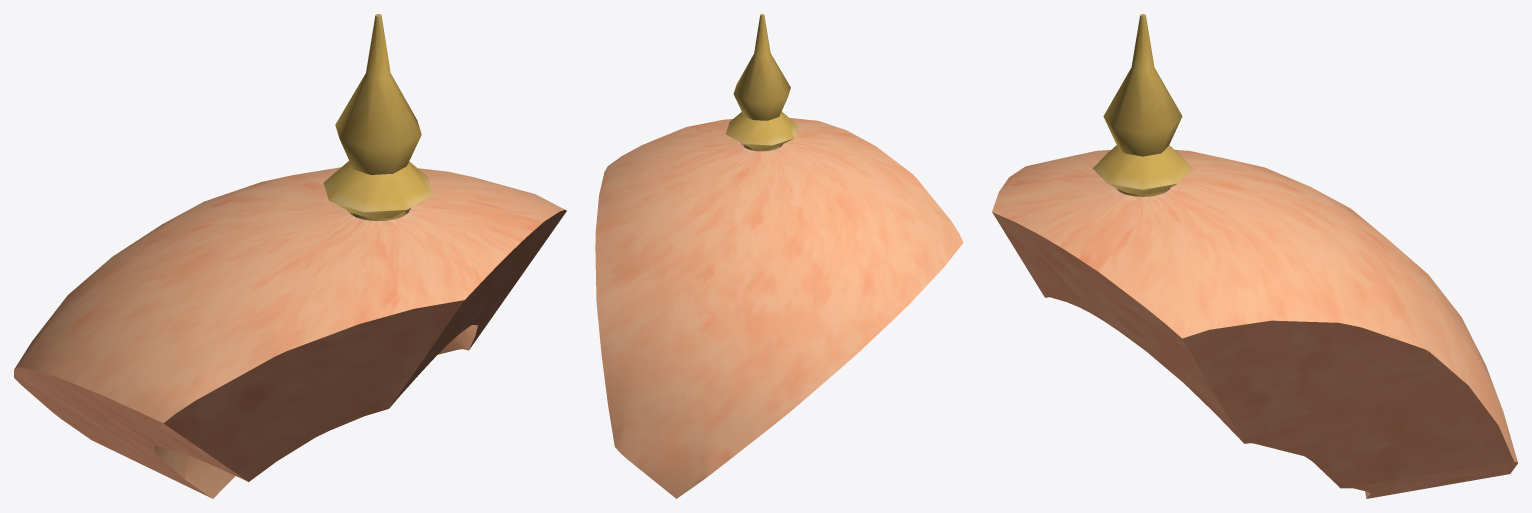
File: dome_s06.fbx
The picture shows the model from 3 angles, left to right: view 1: azimuth 30°, elevation 25°; view 2: azimuth 150°, elevation 25°; view 3: azimuth 270°, elevation 25°; orthographic projection. The views are drawn at different scales.
Parts seen in each view (by area): view 1: dome_s06; view 2: dome_s06; view 3: dome_s06.
Part boxes in pixels (x1,y1,x2,y2): dome_s06: (14,14,566,498); dome_s06: (595,14,963,498); dome_s06: (992,14,1517,498).
Bounding box in the file's own units: 6.86 × 7.67 × 7.31.
